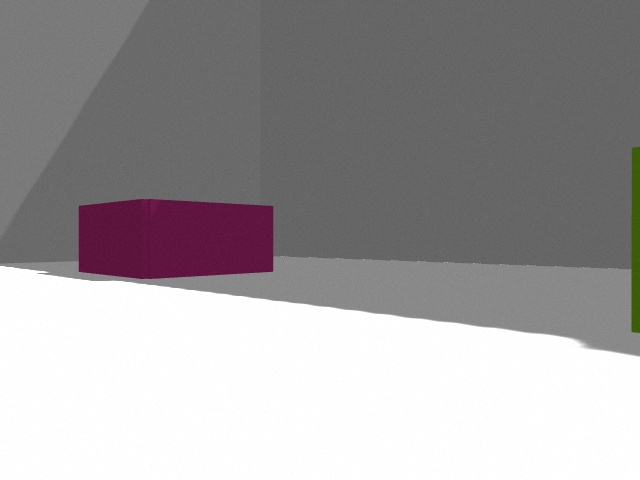green_drop_zone: (631, 147, 640, 333)
red_drop_zone: (79, 199, 273, 279)
